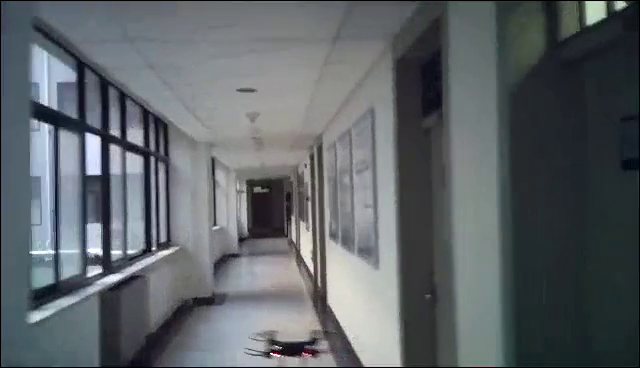drone: (246, 327, 341, 368)
